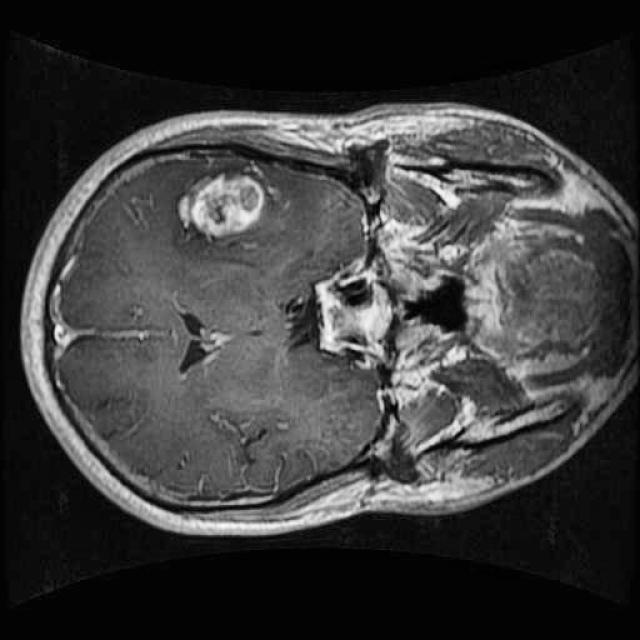Tumor: (166, 151, 276, 251)
